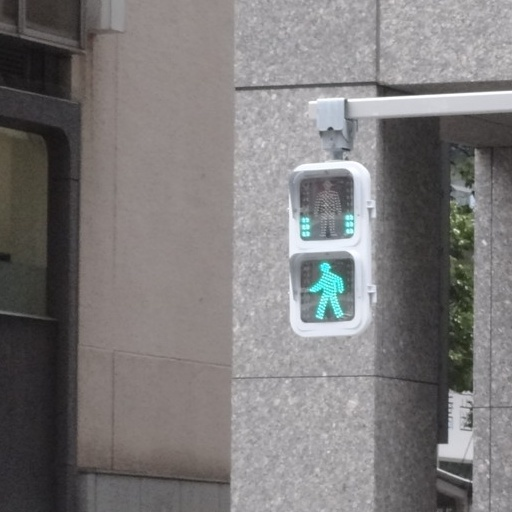Pedestrian_Signal_Blue: (286, 159, 371, 332)
